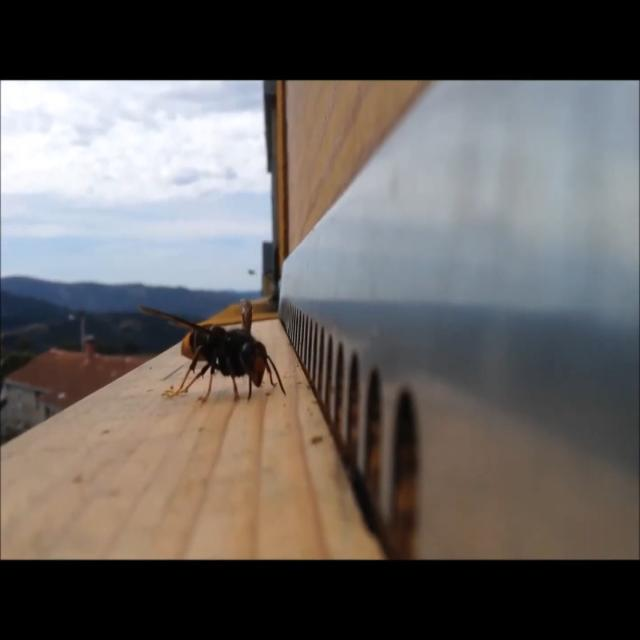Hornets: (137, 295, 288, 407)
